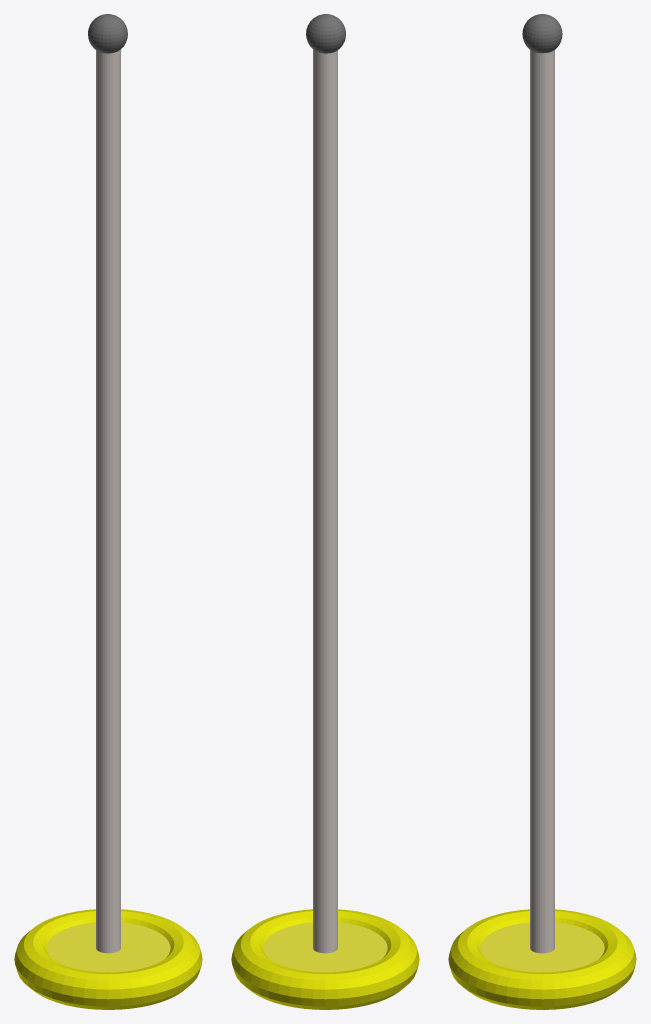
The model's file is Flagpl.fbx.
The picture shows the model from 3 angles, left to right: view 1: azimuth 30°, elevation 25°; view 2: azimuth 150°, elevation 25°; view 3: azimuth 270°, elevation 25°; orthographic projection.
Visible parts, largest first — view 1: Cylinder, Torus, Cylinder.001, Sphere; view 2: Cylinder, Torus, Cylinder.001, Sphere; view 3: Cylinder, Torus, Cylinder.001, Sphere.
Part boxes in pixels (x1=…): Cylinder: x1=96, y1=49, x2=120, y2=953; Torus: x1=14, y1=909, x2=202, y2=1009; Cylinder.001: x1=46, y1=922, x2=170, y2=972; Sphere: x1=88, y1=14, x2=127, y2=53; Cylinder: x1=313, y1=49, x2=337, y2=953; Torus: x1=231, y1=909, x2=419, y2=1009; Cylinder.001: x1=263, y1=922, x2=387, y2=972; Sphere: x1=306, y1=14, x2=345, y2=53; Cylinder: x1=530, y1=50, x2=554, y2=953; Torus: x1=448, y1=909, x2=636, y2=1009; Cylinder.001: x1=480, y1=922, x2=604, y2=972; Sphere: x1=522, y1=14, x2=562, y2=53.
Bounding box in the file's own units: 75 × 422 × 75.
